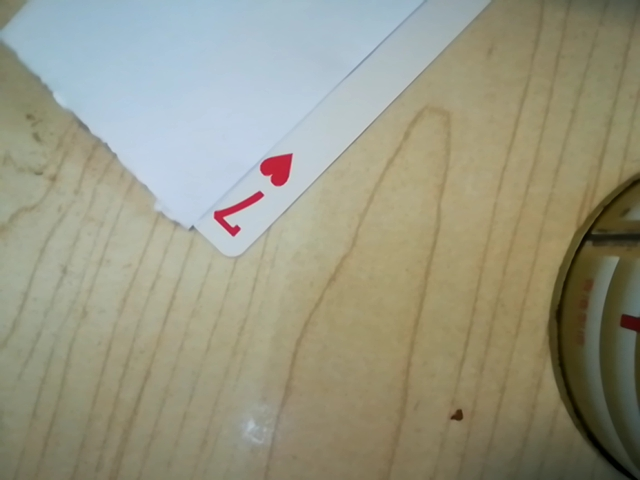hx 7: (200, 146, 303, 242)
